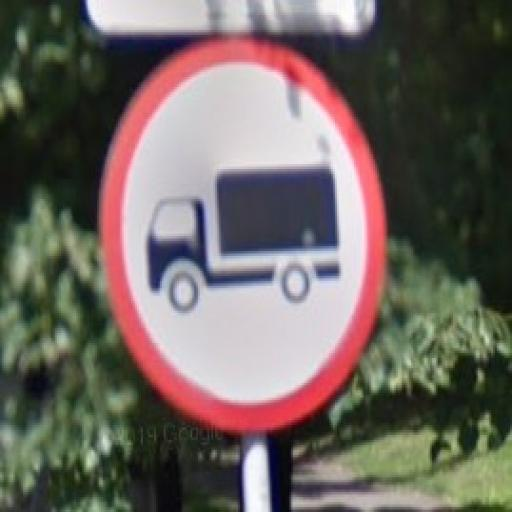traffic_sign: (98, 36, 389, 436)
